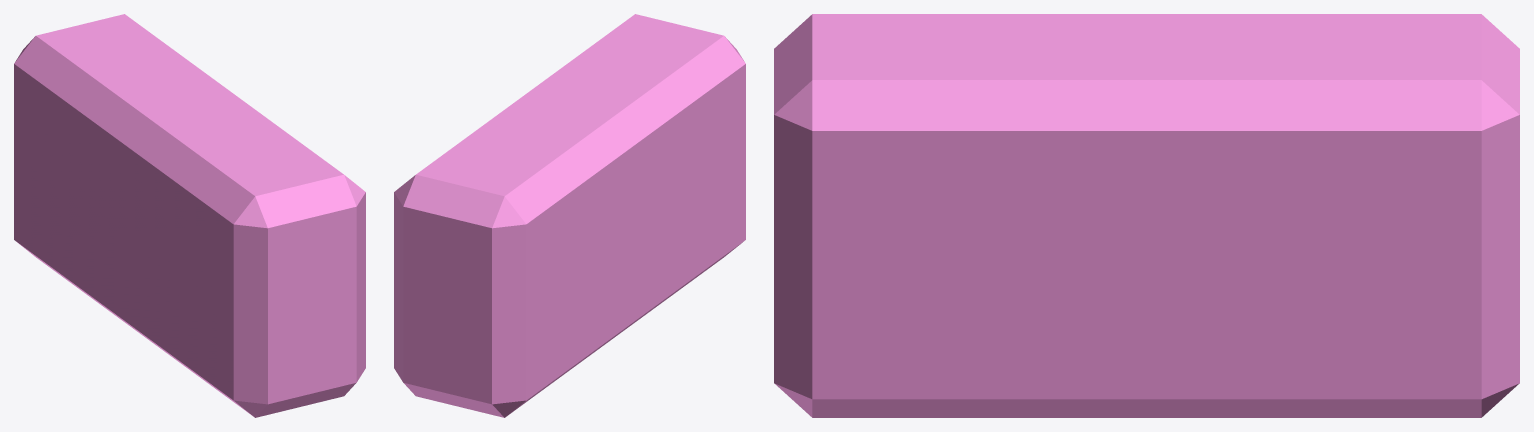
File: Soap.glb
3 renders of one model, left to right at view 1: azimuth 30°, elevation 25°; view 2: azimuth 150°, elevation 25°; view 3: azimuth 270°, elevation 25°, orthographic. The views are drawn at different scales.
Visible parts, largest first — view 1: Soap; view 2: Soap; view 3: Soap.
Boxes of the visible parts, <box> form: Soap: <box>14,14,365,417</box>; Soap: <box>394,14,745,417</box>; Soap: <box>774,14,1519,417</box>.
Bounding box in the file's own units: 0.05 × 0.08 × 0.16.
Materials: 1 (1 with a texture image).
